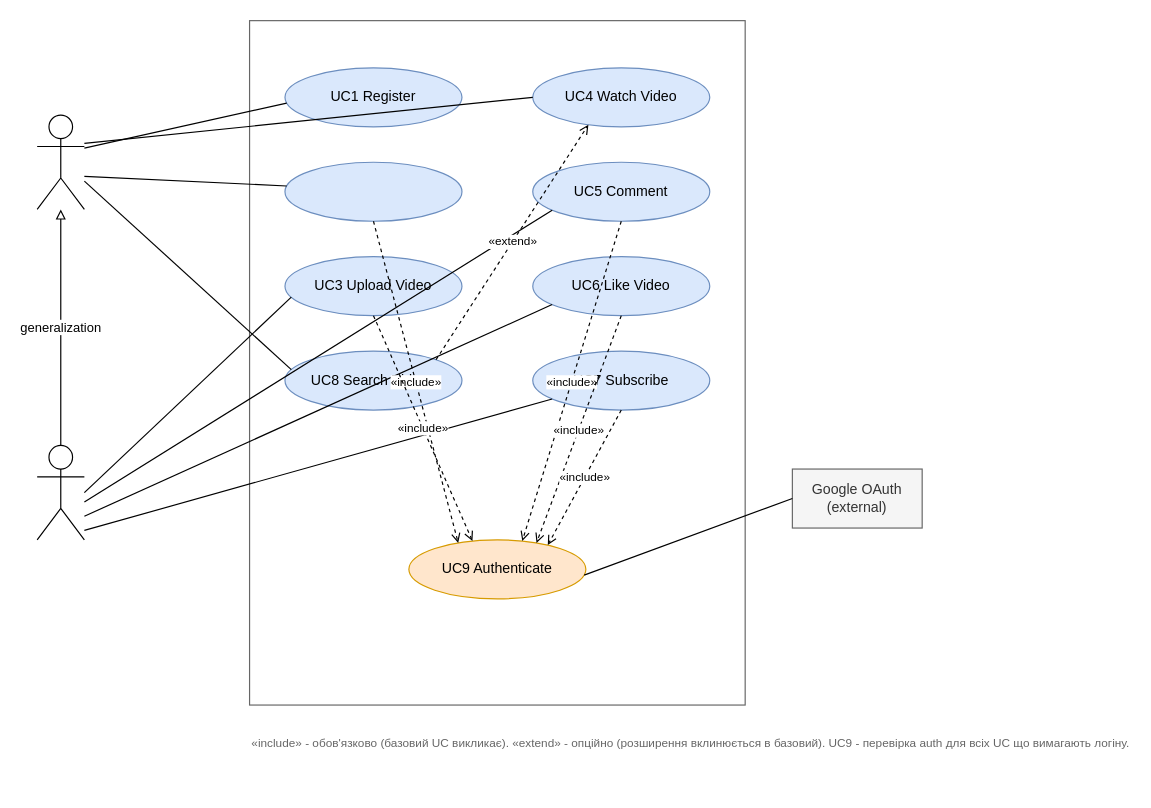
This 1151x808 diagram has some shape labels left out. Here are the shapes that lost their labels. From the top down, the box of each, then its label:
(36, 114, 84, 209): Guest
(284, 161, 462, 221): UC2 Login
(248, 19, 745, 705): VideoHub
(36, 444, 84, 540): User
